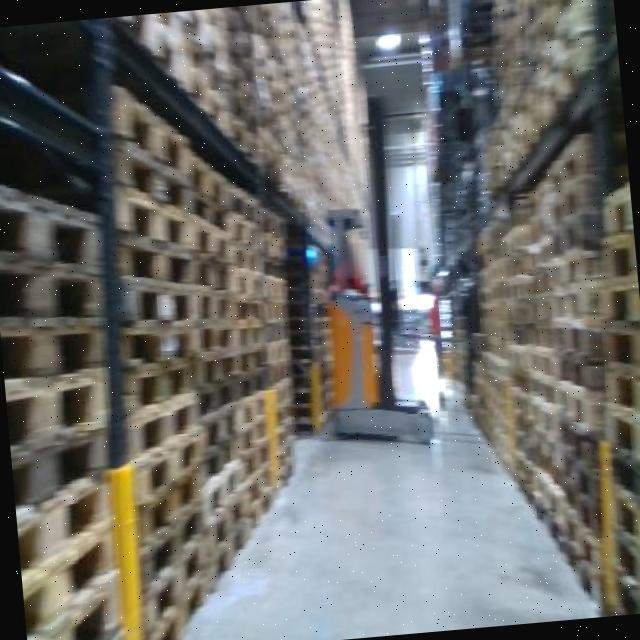pallet: (12, 460, 128, 586), (2, 353, 118, 457), (0, 169, 116, 273), (8, 414, 119, 522), (0, 236, 110, 331), (0, 301, 112, 391)
